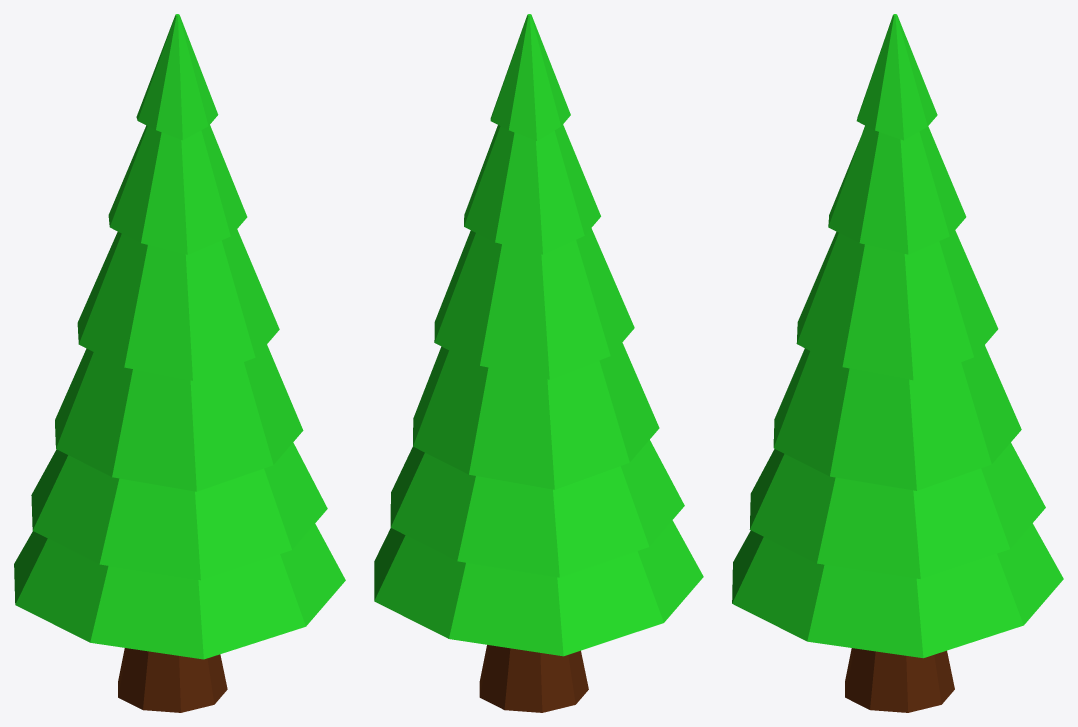
Rendered from pine_tree.glb.
3 renders of one model, left to right at view 1: azimuth 30°, elevation 25°; view 2: azimuth 150°, elevation 25°; view 3: azimuth 270°, elevation 25°, orthographic.
Parts seen in each view (by area): view 1: Cylinder, trunk; view 2: Cylinder, trunk; view 3: Cylinder, trunk.
Part boxes in pixels (left/top/right/bottom): Cylinder: left=14, top=14, right=345, bottom=659; trunk: left=118, top=648, right=227, bottom=712; Cylinder: left=374, top=14, right=703, bottom=656; trunk: left=479, top=645, right=588, bottom=712; Cylinder: left=732, top=14, right=1063, bottom=658; trunk: left=845, top=648, right=954, bottom=712.
Bounding box in the file's own units: 2.31 × 5.12 × 2.28.
